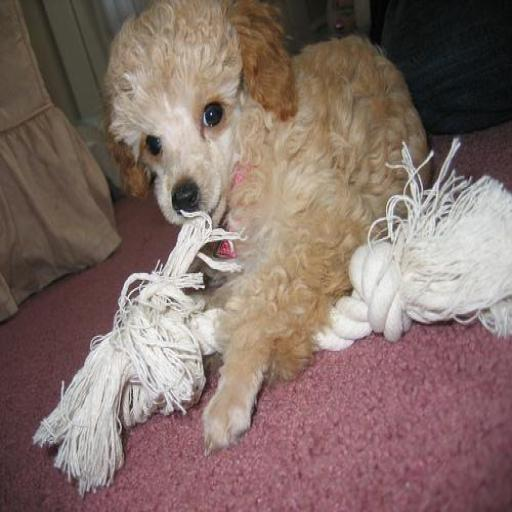dog_face: (98, 5, 290, 215)
